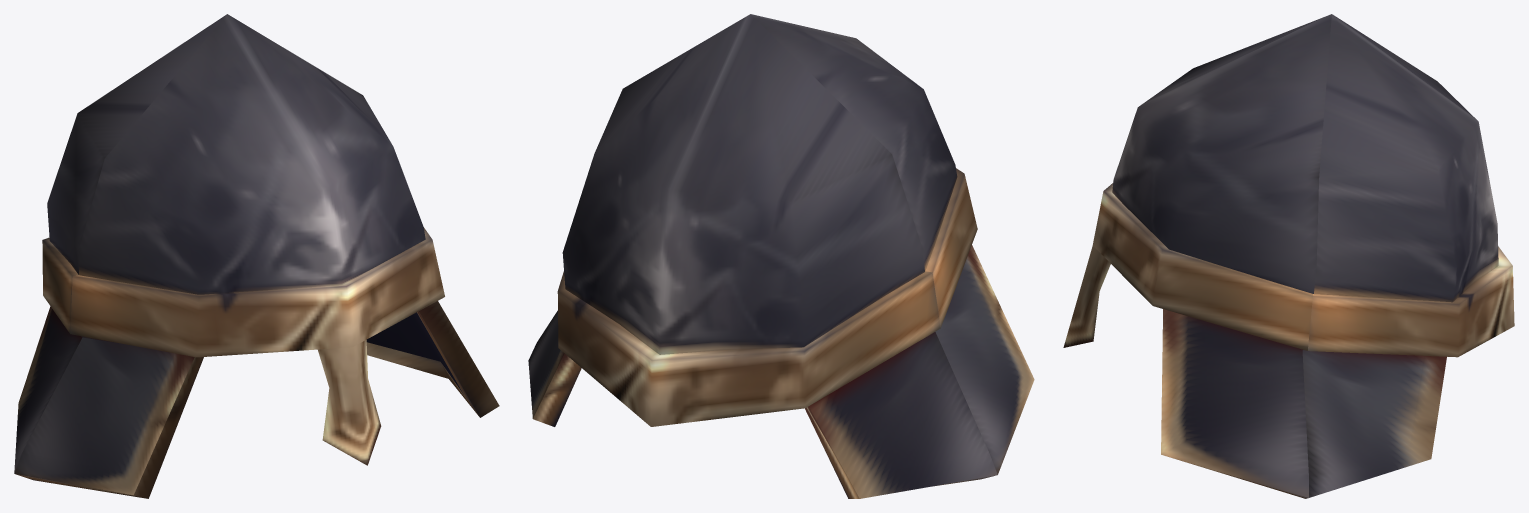
Rendered from Helmet_Grade_03.glb.
3 renders of one model, left to right at view 1: azimuth 30°, elevation 25°; view 2: azimuth 150°, elevation 25°; view 3: azimuth 270°, elevation 25°, orthographic. The views are drawn at different scales.
Visible parts, largest first — view 1: Helmet_Grade_03; view 2: Helmet_Grade_03; view 3: Helmet_Grade_03.
Part boxes in pixels (x1=…): Helmet_Grade_03: x1=14, y1=14, x2=499, y2=498; Helmet_Grade_03: x1=528, y1=14, x2=1034, y2=498; Helmet_Grade_03: x1=1063, y1=14, x2=1514, y2=498.
Bounding box in the file's own units: 4.11 × 3.54 × 3.73.
Materials: 1 (1 with a texture image).
